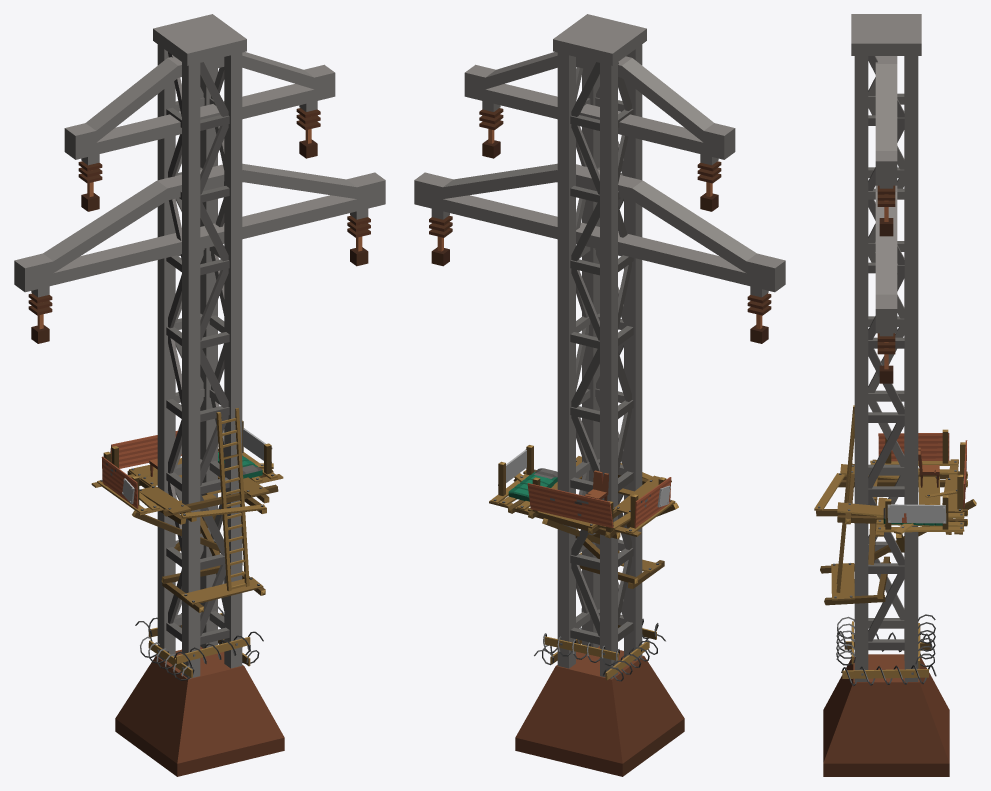
Rendered from SA_Bld_PowerLineLarge_Defended_01.gltf.
The picture shows the model from 3 angles, left to right: view 1: azimuth 30°, elevation 25°; view 2: azimuth 150°, elevation 25°; view 3: azimuth 270°, elevation 25°; orthographic projection.
Parts seen in each view (by area): view 1: SA_Bld_PowerLineLarge_Defended_01; view 2: SA_Bld_PowerLineLarge_Defended_01; view 3: SA_Bld_PowerLineLarge_Defended_01.
Boxes of the visible parts, bbox=[...] form: SA_Bld_PowerLineLarge_Defended_01: bbox=[14, 14, 385, 776]; SA_Bld_PowerLineLarge_Defended_01: bbox=[414, 14, 785, 776]; SA_Bld_PowerLineLarge_Defended_01: bbox=[814, 14, 976, 776].
Size of the model in its own units: 21.93 by 41.07 by 8.39.
Materials: 1 (1 with a texture image).
